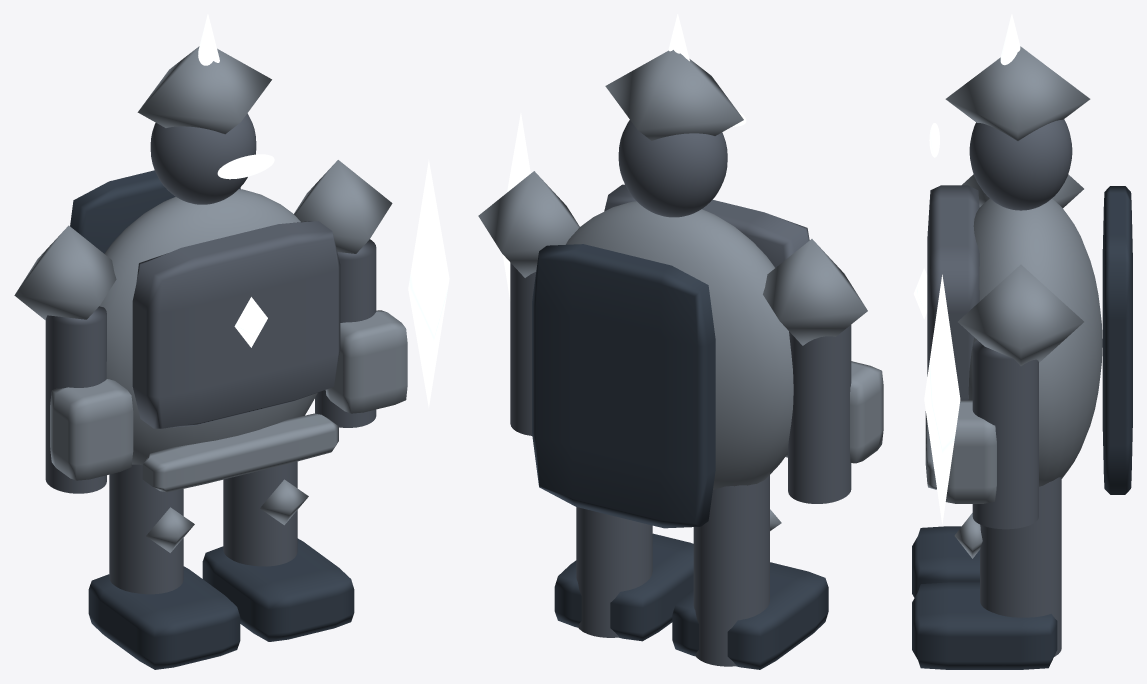
File: shadow-soldier.glb
The picture shows the model from 3 angles, left to right: view 1: azimuth 30°, elevation 25°; view 2: azimuth 150°, elevation 25°; view 3: azimuth 270°, elevation 25°; orthographic projection. The views are drawn at different scales.
Visible parts, largest first — view 1: breastplate, torso, leftBoot, rightBoot, ExtraBelt, leftLeg, ExtraForearmL, helmet, ExtraForearmR, head, shoulder-1, rightLeg (+10 smaller); view 2: cape, torso, leftLeg, arm-1, leftBoot, head, helmet, rightLeg, shoulder-1, rightBoot, shoulder1, arm1 (+3 smaller); view 3: torso, rightBoot, arm1, cape, rightLeg, breastplate, helmet, head, shoulder1, blade, ExtraForearmR, leftBoot (+5 smaller).
Boxes of the visible parts, x1=… form: breastplate: x1=132, y1=221, x2=340, y2=428; torso: x1=99, y1=189, x2=317, y2=465; leftBoot: x1=88, y1=566, x2=240, y2=669; rightBoot: x1=202, y1=538, x2=354, y2=641; ExtraBelt: x1=142, y1=413, x2=338, y2=492; leftLeg: x1=109, y1=464, x2=183, y2=594; ExtraForearmL: x1=50, y1=379, x2=133, y2=480; helmet: x1=137, y1=46, x2=271, y2=134; ExtraForearmR: x1=325, y1=310, x2=407, y2=413; head: x1=150, y1=113, x2=256, y2=204; shoulder-1: x1=14, y1=225, x2=116, y2=320; rightLeg: x1=223, y1=461, x2=297, y2=566; cape: x1=532, y1=244, x2=715, y2=528; torso: x1=565, y1=201, x2=793, y2=489; leftLeg: x1=693, y1=475, x2=769, y2=666; arm-1: x1=788, y1=325, x2=851, y2=503; leftBoot: x1=672, y1=562, x2=828, y2=669; head: x1=618, y1=120, x2=727, y2=217; helmet: x1=605, y1=50, x2=743, y2=140; rightLeg: x1=576, y1=507, x2=652, y2=637; shoulder-1: x1=763, y1=239, x2=867, y2=345; rightBoot: x1=554, y1=533, x2=693, y2=641; shoulder1: x1=478, y1=171, x2=579, y2=277; arm1: x1=510, y1=263, x2=535, y2=435; torso: x1=968, y1=198, x2=1102, y2=486; rightBoot: x1=912, y1=582, x2=1057, y2=669; arm1: x1=972, y1=340, x2=1038, y2=529; cape: x1=1102, y1=186, x2=1132, y2=494; rightLeg: x1=980, y1=477, x2=1061, y2=656; breastplate: x1=927, y1=185, x2=979, y2=400; helmet: x1=945, y1=46, x2=1090, y2=140; head: x1=969, y1=119, x2=1072, y2=210; shoulder1: x1=958, y1=264, x2=1083, y2=365; blade: x1=924, y1=274, x2=960, y2=524; ExtraForearmR: x1=945, y1=400, x2=996, y2=503; leftBoot: x1=912, y1=526, x2=979, y2=597.
Bounding box in the file's own units: 1.53 × 2.22 × 0.73.
